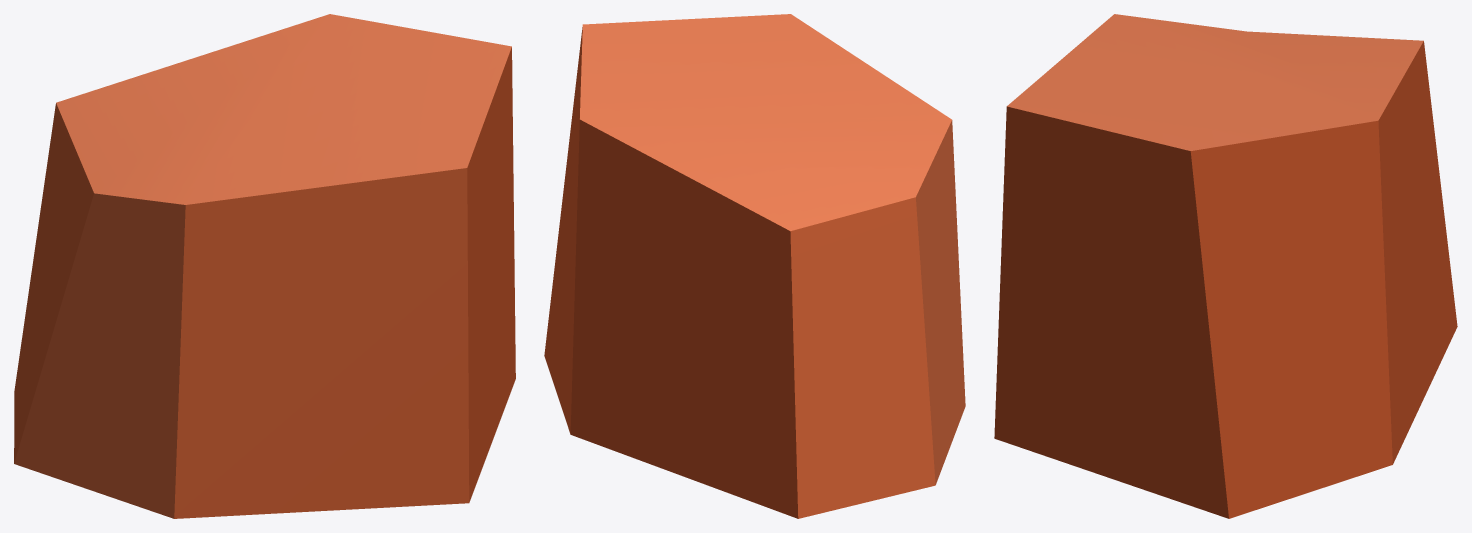
Rendered from rock_05.fbx.
3 renders of one model, left to right at view 1: azimuth 30°, elevation 25°; view 2: azimuth 150°, elevation 25°; view 3: azimuth 270°, elevation 25°, orthographic. The views are drawn at different scales.
Visible parts, largest first — view 1: rock_05; view 2: rock_05; view 3: rock_05.
Boxes of the visible parts, x1,y1,x2,y2 form: rock_05: [14, 14, 515, 518]; rock_05: [544, 14, 965, 518]; rock_05: [994, 14, 1457, 518].
Bounding box in the file's own units: 275 × 200 × 235.
